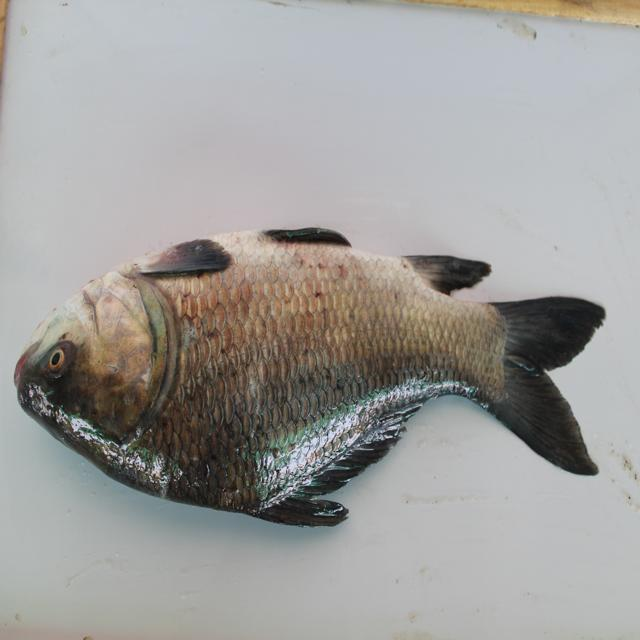Catla: (14, 216, 616, 540)
